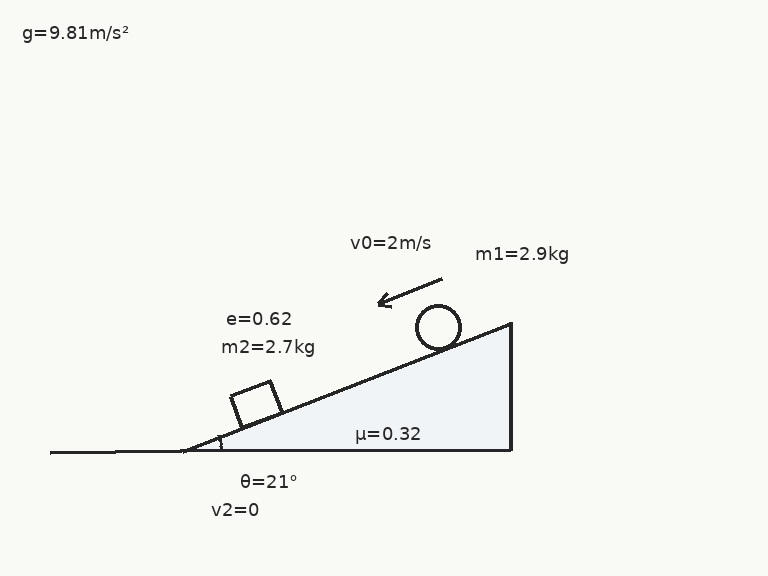ball: (413, 302, 463, 352)
block: (227, 379, 284, 429)
ramp: (179, 322, 513, 452)
